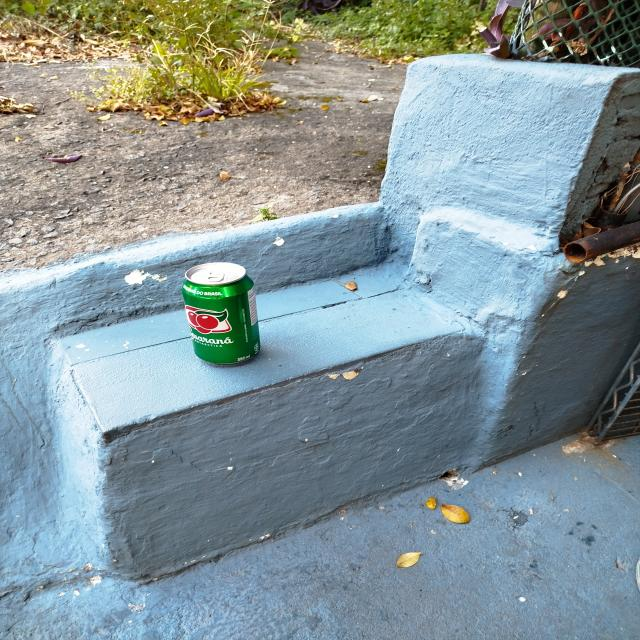Guarana: (180, 262, 258, 364)
